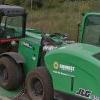Tractor: (13, 7, 100, 100)
